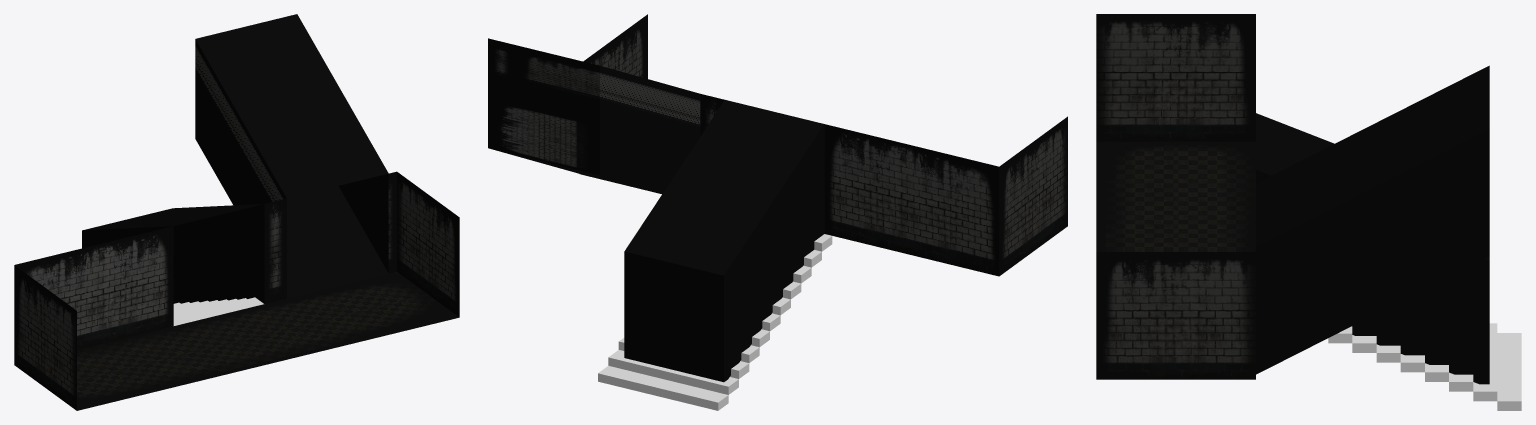
File: pasilloA3.fbx
The picture shows the model from 3 angles, left to right: view 1: azimuth 30°, elevation 25°; view 2: azimuth 150°, elevation 25°; view 3: azimuth 270°, elevation 25°; orthographic projection. The views are drawn at different scales.
Visible parts, largest first — view 1: Box019, StraightStair003; view 2: Box019, StraightStair003; view 3: Box019, StraightStair003.
Part boxes in pixels (box(x1,y1,x2,y2)): Box019: box(14, 14, 459, 410); StraightStair003: box(173, 297, 263, 325); Box019: box(488, 14, 1067, 382); StraightStair003: box(598, 234, 832, 410); Box019: box(1096, 14, 1489, 384); StraightStair003: box(1328, 323, 1521, 410).
Bounding box in the file's own units: 662 × 457 × 500.
Materials: 1 (1 with a texture image).
